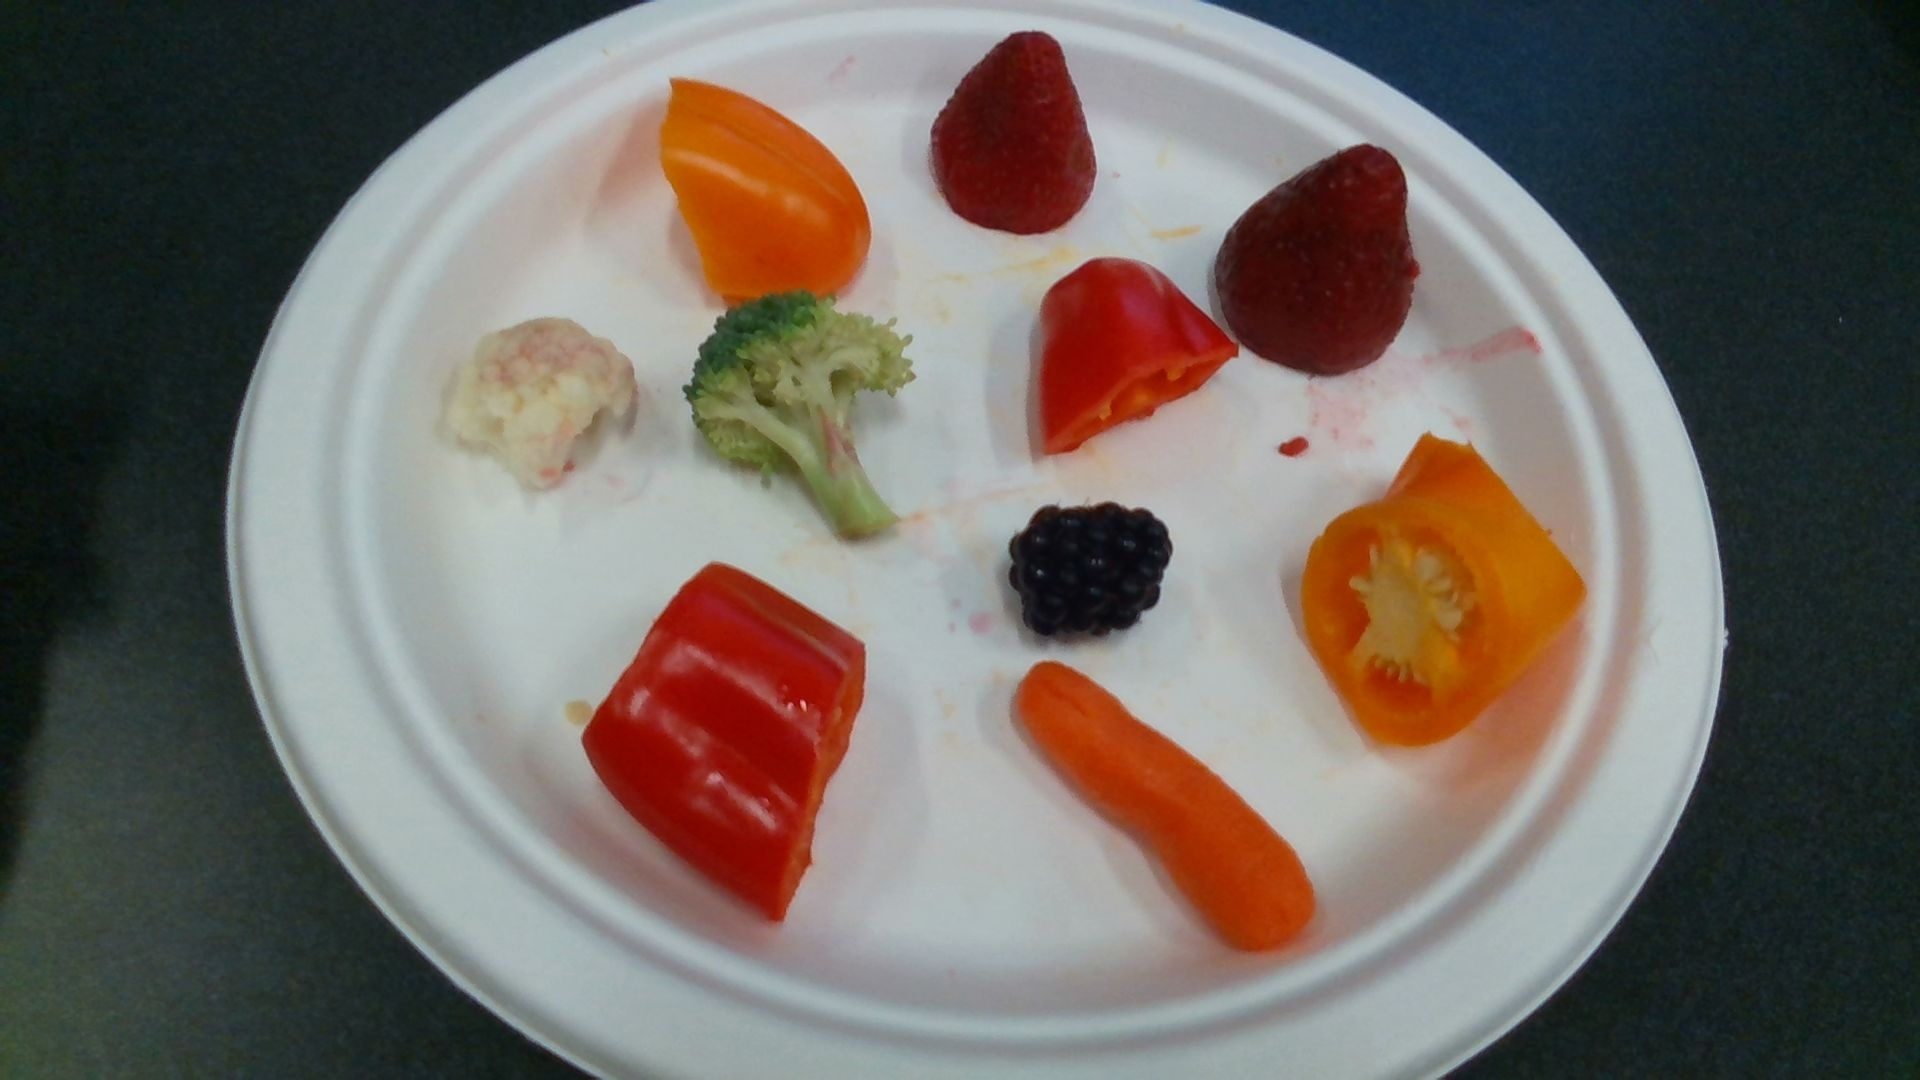bell_pepper: (580, 563, 860, 916), (1299, 436, 1582, 733), (665, 73, 869, 301), (1040, 261, 1232, 451)
blackberry: (1011, 502, 1172, 636)
broccoli: (690, 293, 905, 538)
carrot: (1011, 665, 1313, 953)
cauliflower: (450, 320, 640, 483)
strawberry: (1218, 148, 1419, 371), (934, 30, 1095, 237)
